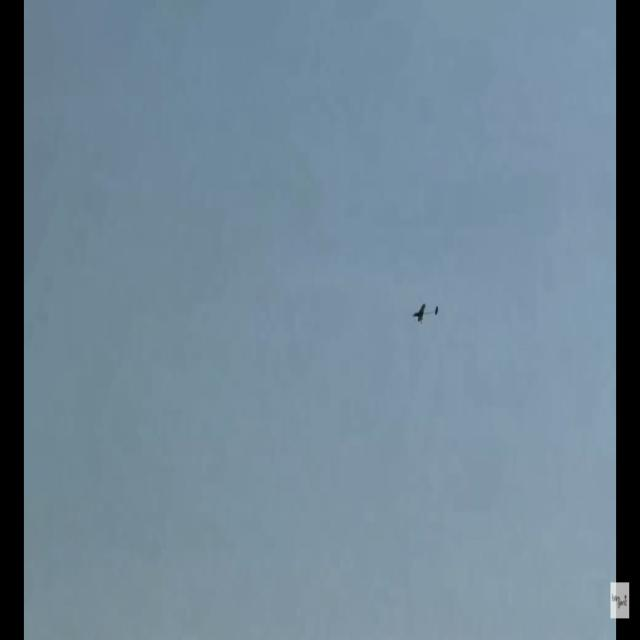iha: (411, 302, 439, 324)
